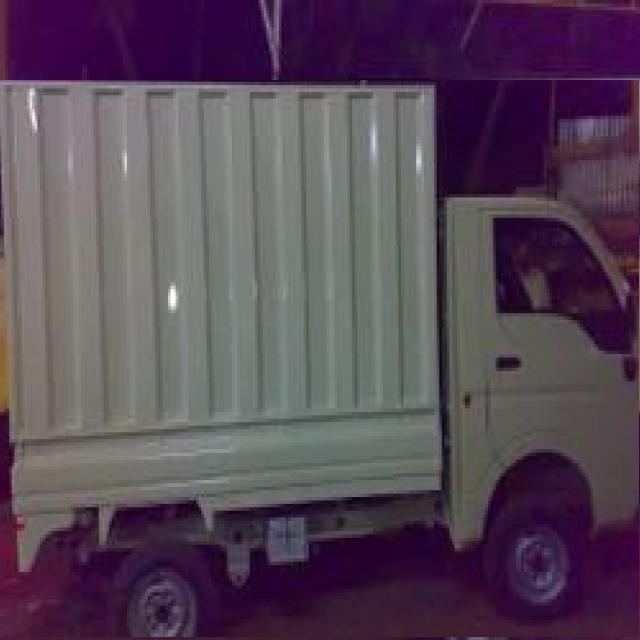truck: (0, 80, 639, 637)
